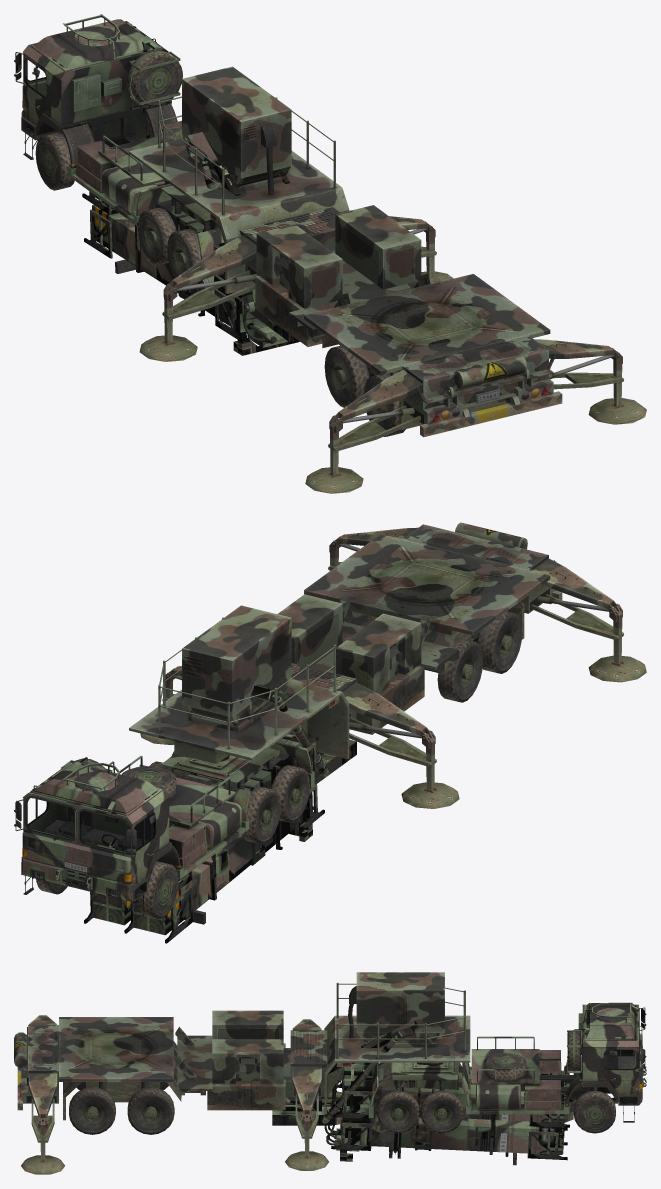
Rendered from patriot.glb.
The picture shows the model from 3 angles, top to bottom: view 1: azimuth 30°, elevation 25°; view 2: azimuth 150°, elevation 25°; view 3: azimuth 270°, elevation 25°; orthographic projection. The views are drawn at different scales.
Parts seen in each view (by area): view 1: body|01___Default, body|02___Default, cradle|02___Default, turret|02___Default; view 2: body|01___Default, body|02___Default, cradle|02___Default, turret|02___Default; view 3: body|01___Default, body|02___Default, cradle|02___Default, turret|02___Default.
Boxes of the visible parts, left/top/right/bottom form: body|01___Default: left=129, top=66, right=646, bottom=493; body|02___Default: left=14, top=14, right=224, bottom=285; cradle|02___Default: left=82, top=181, right=299, bottom=355; turret|02___Default: left=187, top=132, right=296, bottom=341; body|01___Default: left=129, top=522, right=646, bottom=808; body|02___Default: left=14, top=741, right=314, bottom=922; cradle|02___Default: left=84, top=734, right=324, bottom=943; turret|02___Default: left=251, top=685, right=356, bottom=783; body|01___Default: left=14, top=972, right=470, bottom=1174; body|02___Default: left=360, top=1002, right=646, bottom=1133; cradle|02___Default: left=324, top=1062, right=576, bottom=1165; turret|02___Default: left=272, top=1019, right=418, bottom=1125.
Size of the model in its own units: 10.24 by 6.6 by 22.57.
Materials: 5 (5 with a texture image).
